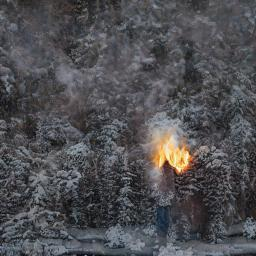Small fire: (148, 127, 188, 174)
